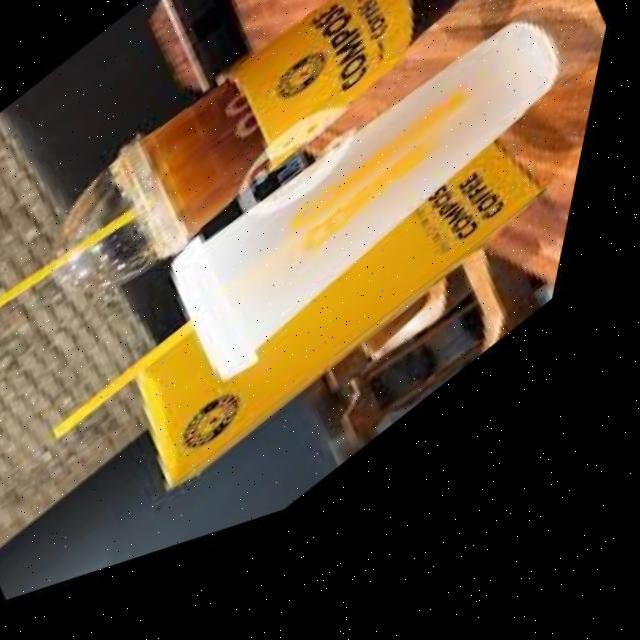cup: (15, 0, 473, 354)
